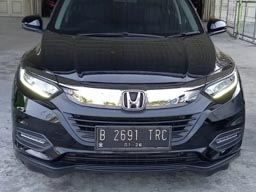plat: (98, 127, 169, 141)
